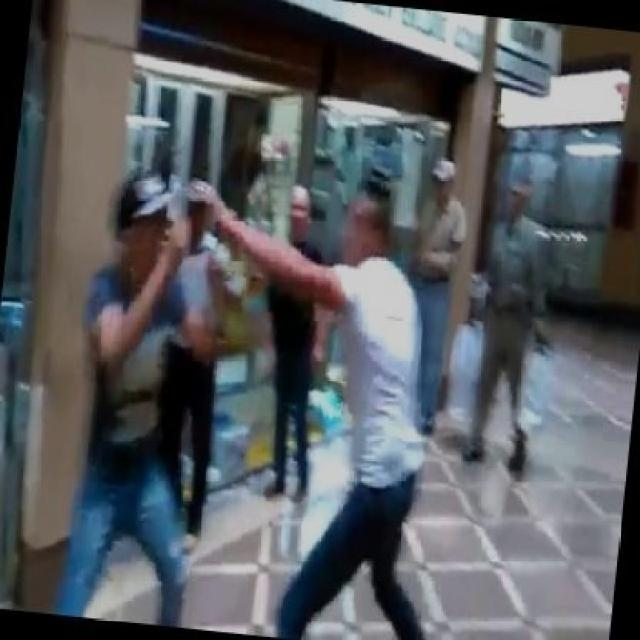fight: (61, 166, 439, 638)
non-fight: (217, 160, 358, 512), (372, 140, 497, 442)
